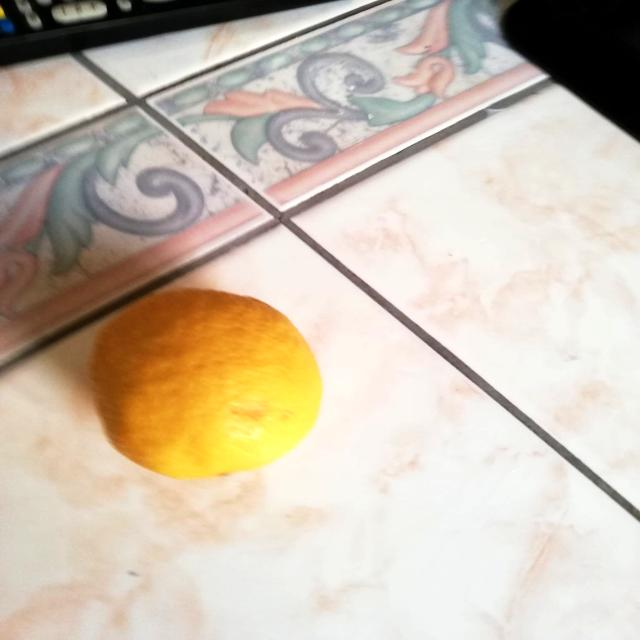lemon: (84, 275, 338, 487)
